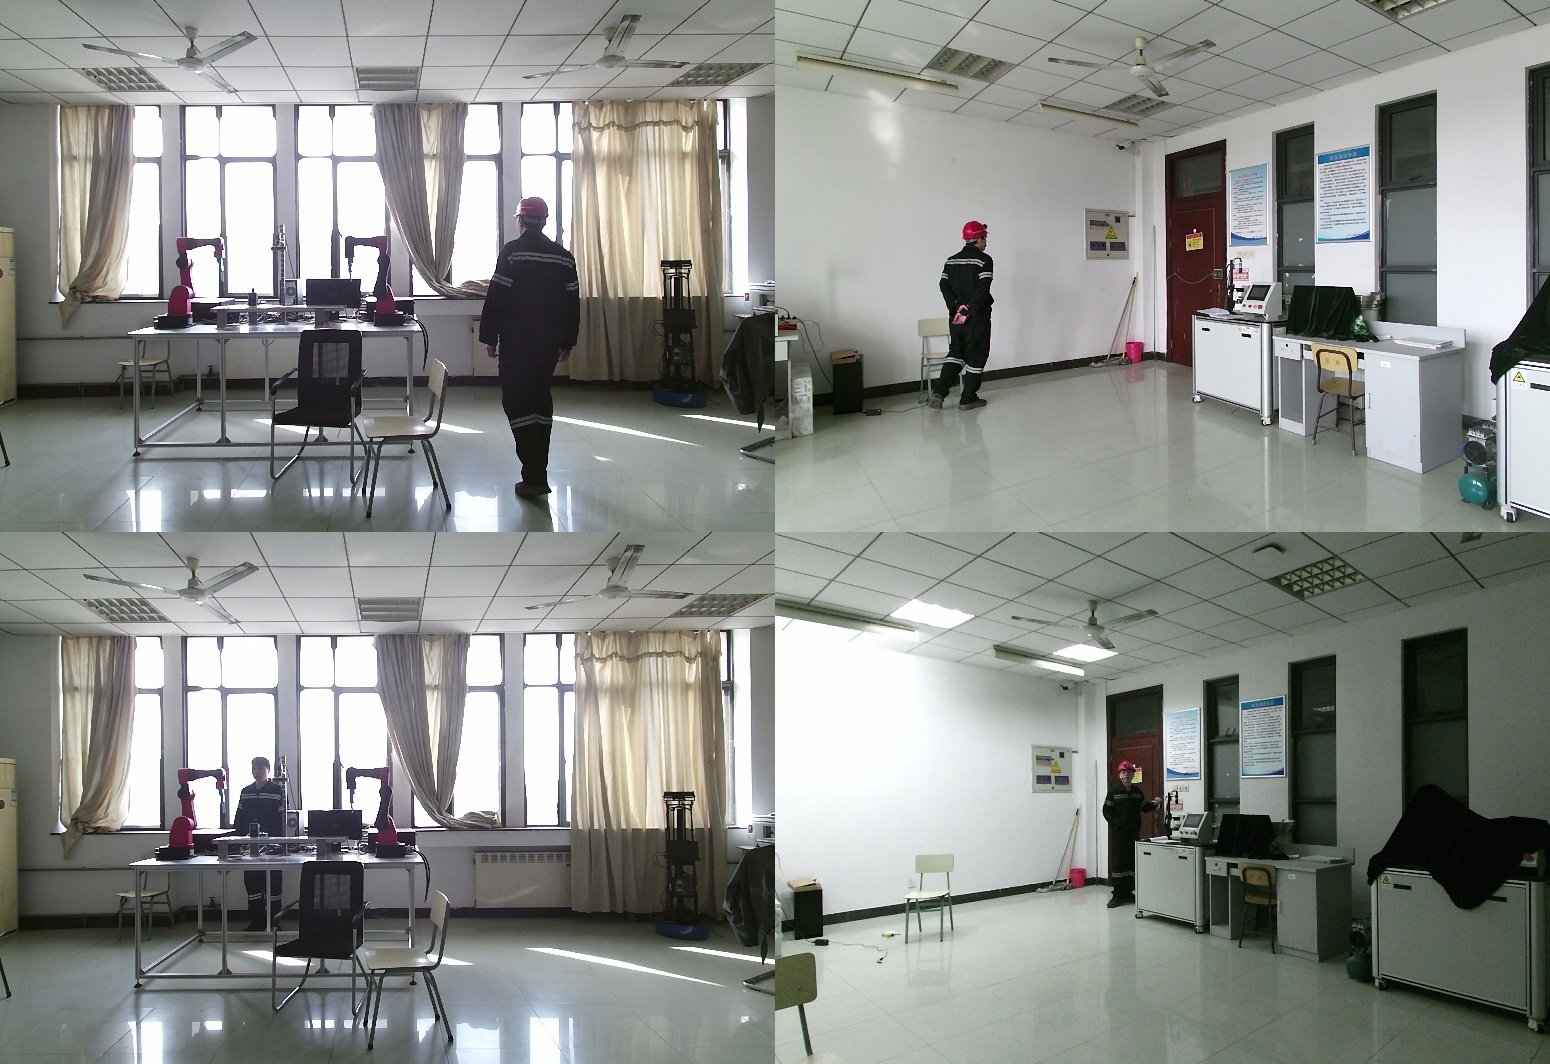person: (483, 195, 598, 500), (921, 220, 996, 420), (233, 758, 288, 941), (1104, 761, 1167, 913)
